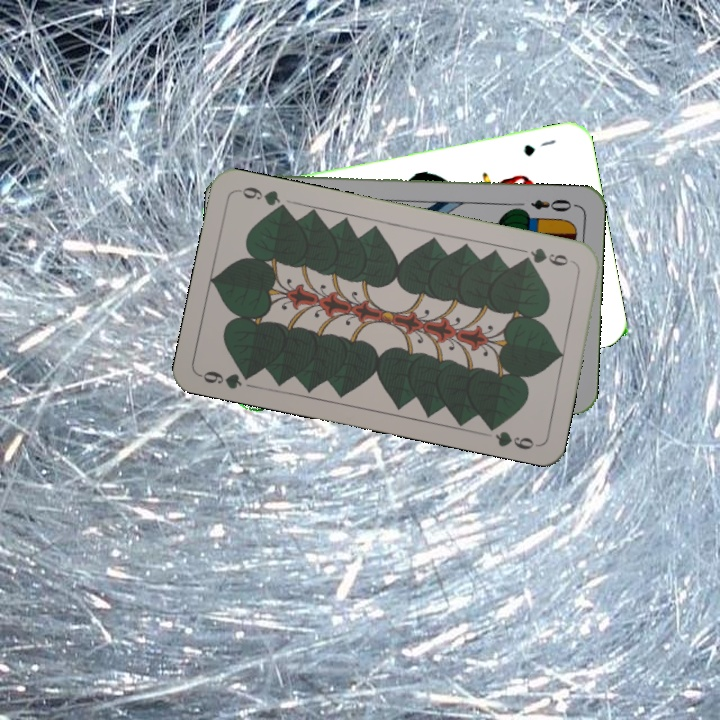EO: (527, 195, 579, 214)
G9: (518, 243, 577, 269), (196, 367, 257, 392)
GU: (520, 135, 558, 159)
